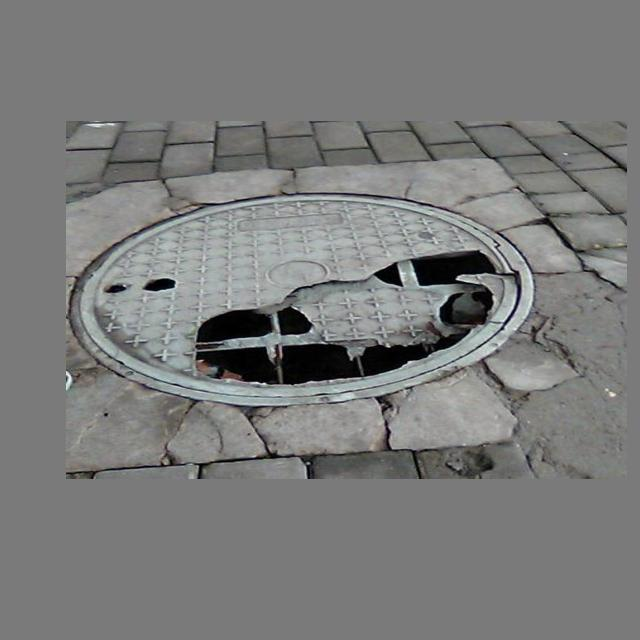broke: (78, 178, 558, 441)
